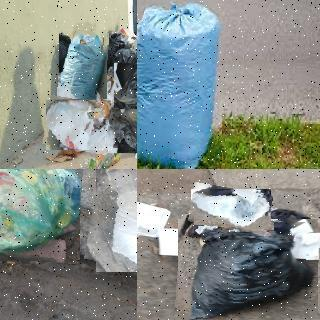Garbage: (137, 0, 225, 169), (176, 216, 319, 320), (0, 169, 81, 263), (90, 169, 137, 277), (190, 186, 272, 232), (44, 98, 113, 152), (58, 31, 108, 100), (106, 102, 137, 155), (114, 63, 137, 108)
